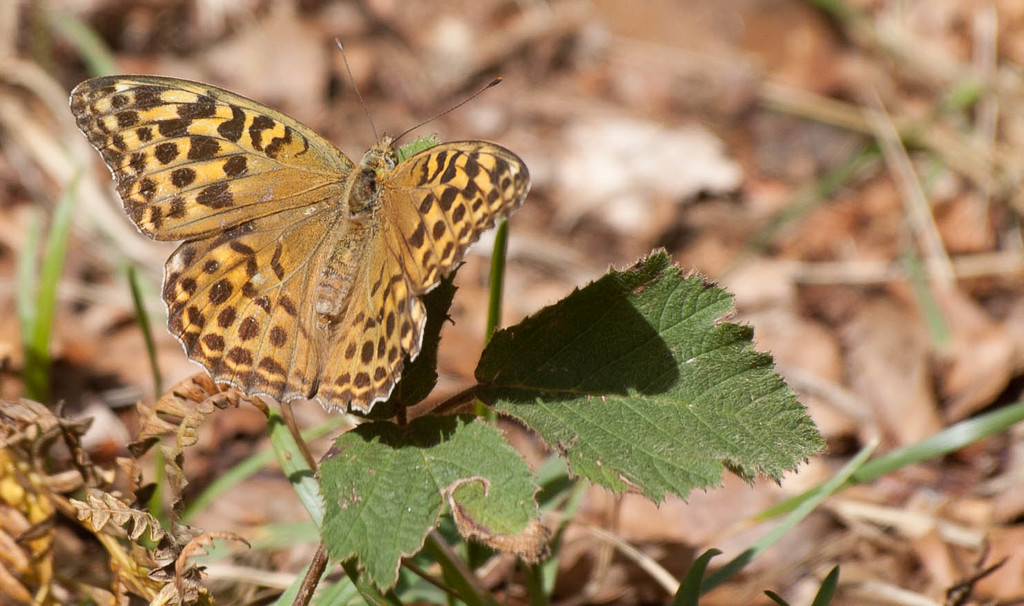Butterfly: (65, 55, 538, 457)
